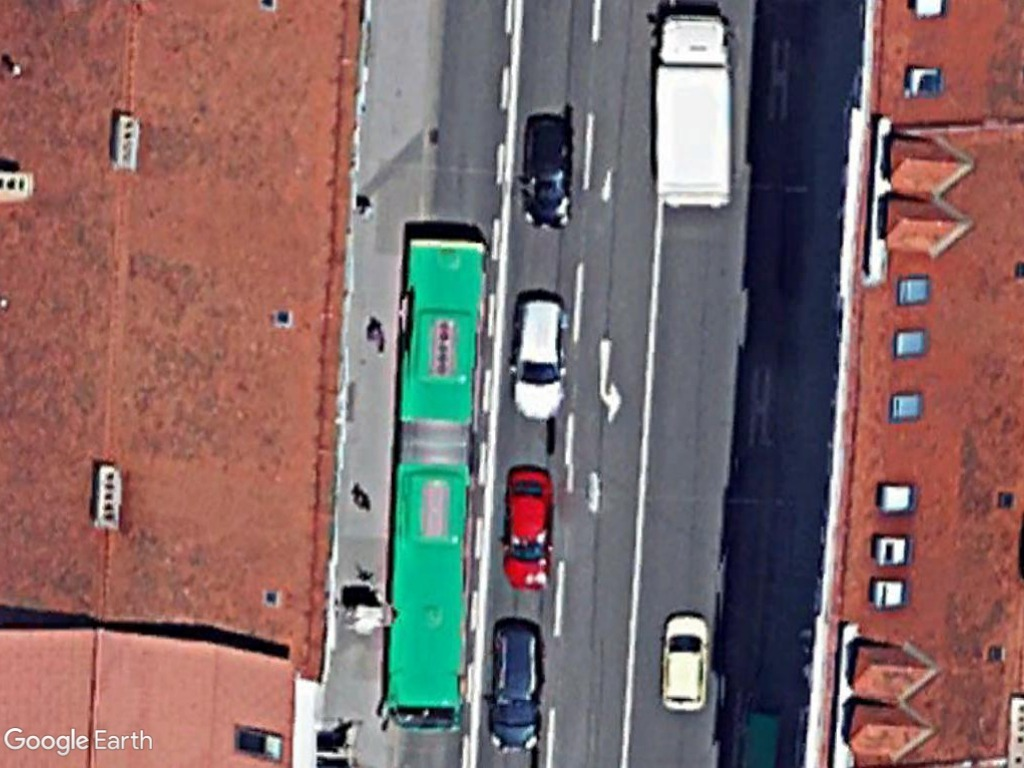bus: (376, 226, 496, 734), (379, 449, 471, 741)
car: (478, 617, 545, 759), (498, 459, 558, 595), (505, 294, 566, 424), (517, 110, 574, 236), (655, 605, 715, 718)
truck: (644, 10, 743, 217)
